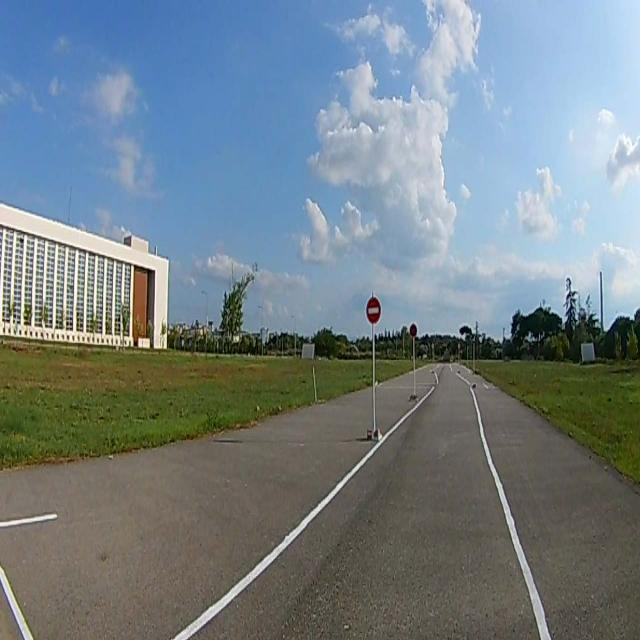girisyok: (367, 298, 381, 322)
